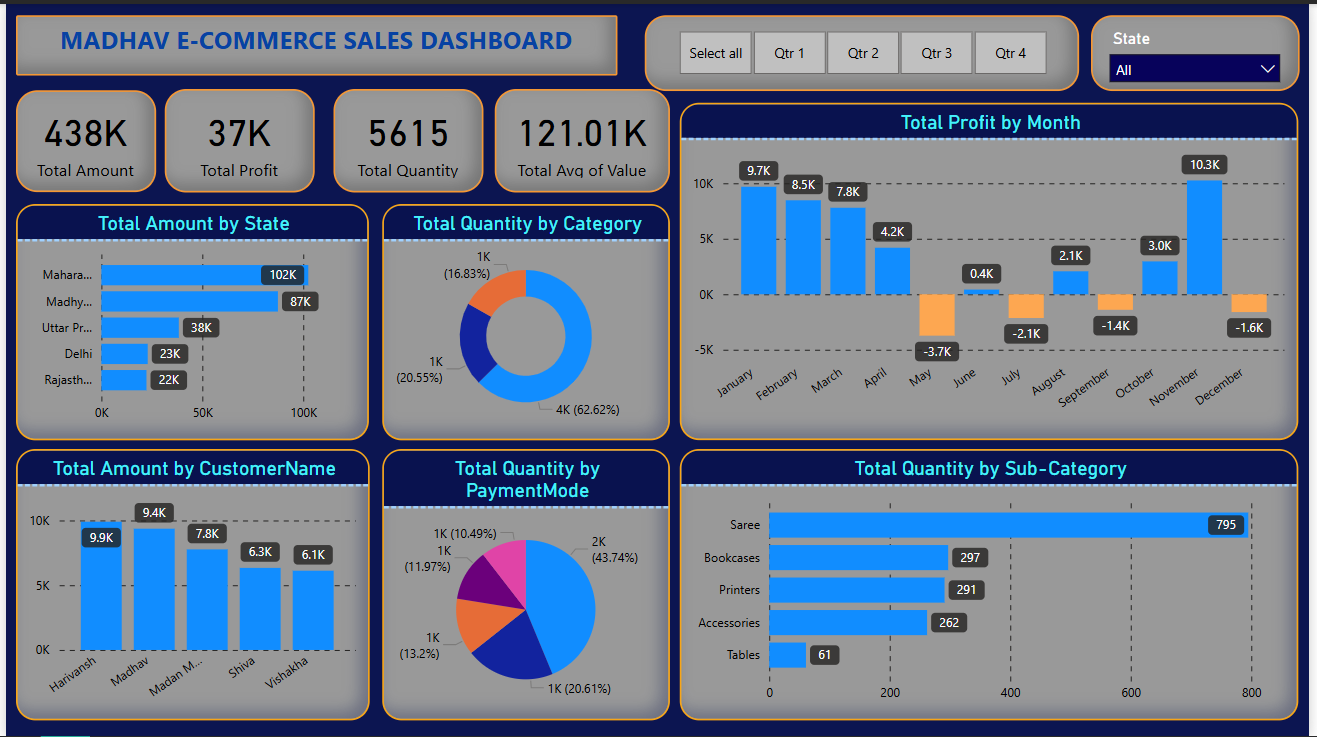

What the dashboard file says about the page in this screenshot:
{"tool":"powerbi","page":{"name":"Page 1","canvas":[1280,720],"ordinal":0},"visuals":[{"type":"textbox","box":[9.6,11,590.1,59],"z":0},{"type":"columnChart","fields":{"Category":["Orders (1).Order Date.Variation.Date Hierarchy.Month"],"Y":["Details (1).Profit"]},"box":[661.4,96.9,607.4,331.3],"z":1000},{"type":"barChart","fields":{"Category":["Details (1).Sub-Category"],"Y":["Details (1).Quantity"]},"box":[661.4,436.8,607.4,266.3],"z":2000},{"type":"donutChart","fields":{"Category":["Details (1).Category"],"Y":["Details (1).Quantity"]},"box":[369.3,196.3,282.2,231.9],"z":3000},{"type":"pieChart","fields":{"Y":["Details (1).Quantity"],"Category":["Details (1).PaymentMode"]},"box":[369.3,436.8,282.2,266.3],"z":4000},{"type":"card","fields":{"Values":["Details (1).Amount"]},"box":[9.6,85.1,137.2,100.2],"z":5000},{"type":"card","fields":{"Values":["Details (1).Profit"]},"box":[156.4,83.7,146.8,101.5],"z":6000},{"type":"card","fields":{"Values":["Details (1).Quantity"]},"box":[321.1,83.7,146.8,101.5],"z":7000},{"type":"card","fields":{"Values":["Details (1).AOV"]},"box":[479.8,83.4,171.8,101.8],"z":8000},{"type":"barChart","fields":{"Category":["Orders (1).State"],"Y":["Details (1).Amount"]},"box":[9.8,196.3,346,231.9],"z":9000},{"type":"columnChart","fields":{"Category":["Orders (1).CustomerName"],"Y":["Details (1).Amount"]},"box":[9.8,436.8,347.2,266.3],"z":10000},{"type":"slicer","fields":{"Values":["Orders (1).Order Date.Variation.Date Hierarchy.Quarter"]},"box":[627.1,11,426.8,74.1],"z":11000},{"type":"slicer","fields":{"Values":["Orders (1).State"]},"box":[1064.8,11,204.5,74.1],"z":12000}]}

Visuals, with their boxes in screenshot pixels (x1, y1, x2, y2), scaled from the page's 1280x720 canvas onto the 1317x737 screenshot:
textbox: locate(10, 11, 617, 72)
columnChart - Orders (1).Order Date.Variation.Date Hierarchy.Month x Details (1).Profit: locate(681, 99, 1305, 438)
barChart - Details (1).Sub-Category x Details (1).Quantity: locate(681, 447, 1305, 720)
donutChart - Details (1).Category x Details (1).Quantity: locate(380, 201, 670, 438)
pieChart - Details (1).Quantity x Details (1).PaymentMode: locate(380, 447, 670, 720)
card - Details (1).Amount: locate(10, 87, 151, 190)
card - Details (1).Profit: locate(161, 86, 312, 190)
card - Details (1).Quantity: locate(330, 86, 481, 190)
card - Details (1).AOV: locate(494, 85, 670, 190)
barChart - Orders (1).State x Details (1).Amount: locate(10, 201, 366, 438)
columnChart - Orders (1).CustomerName x Details (1).Amount: locate(10, 447, 367, 720)
slicer - Orders (1).Order Date.Variation.Date Hierarchy.Quarter: locate(645, 11, 1084, 87)
slicer - Orders (1).State: locate(1096, 11, 1306, 87)
